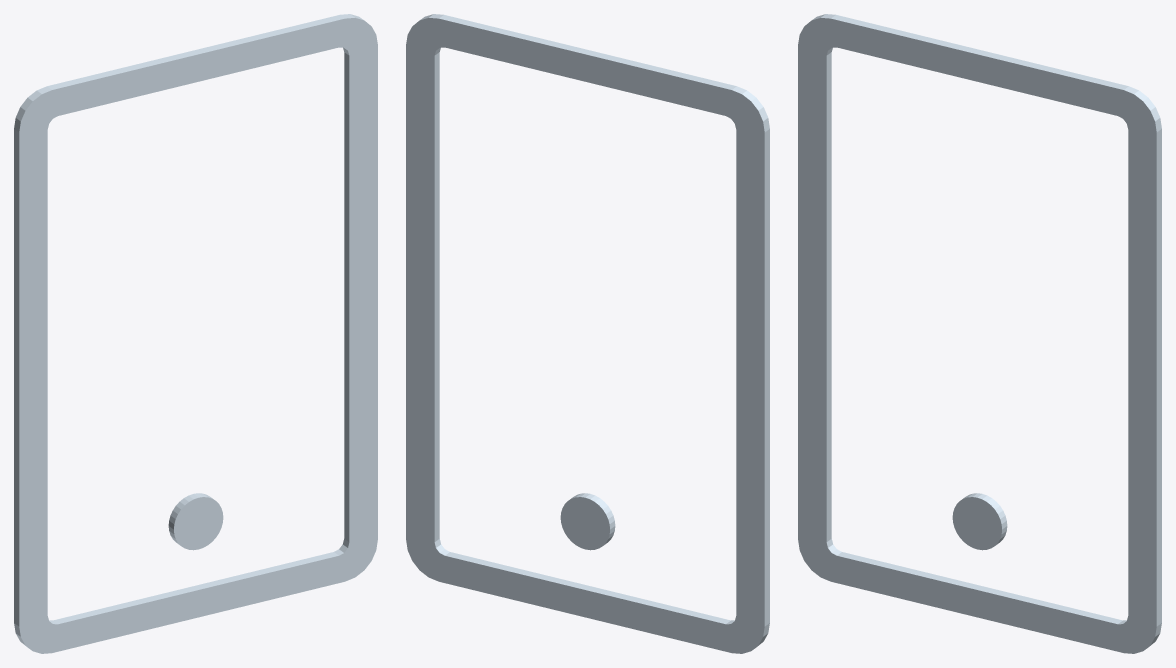
File: Phone_3D_Icon_05.fbx
3 renders of one model, left to right at view 1: azimuth 30°, elevation 25°; view 2: azimuth 150°, elevation 25°; view 3: azimuth 330°, elevation 25°, orthographic.
Visible parts, largest first — view 1: Phone_3D_Icon_05; view 2: Phone_3D_Icon_05; view 3: Phone_3D_Icon_05.
Part boxes in pixels (x1=…): Phone_3D_Icon_05: x1=14, y1=14, x2=377, y2=653; Phone_3D_Icon_05: x1=406, y1=14, x2=769, y2=653; Phone_3D_Icon_05: x1=798, y1=14, x2=1161, y2=653.
Size of the model in its own units: 79.2 by 119 by 2.
